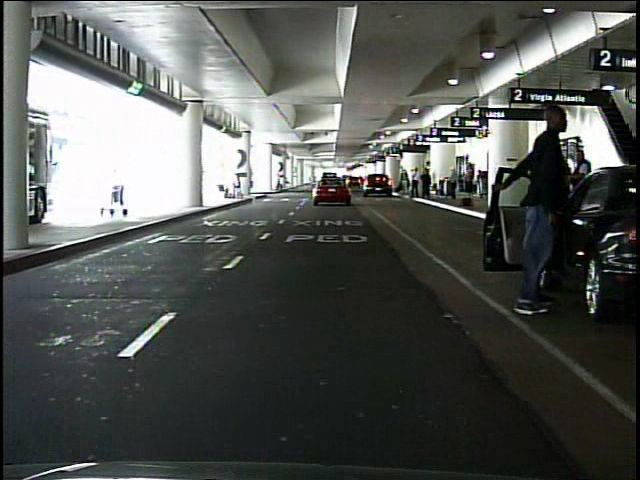person: (498, 104, 579, 319), (545, 143, 575, 236), (569, 146, 593, 231), (465, 163, 477, 206), (448, 167, 461, 201), (421, 168, 433, 201), (410, 166, 421, 200), (401, 169, 412, 197), (276, 172, 285, 189)
